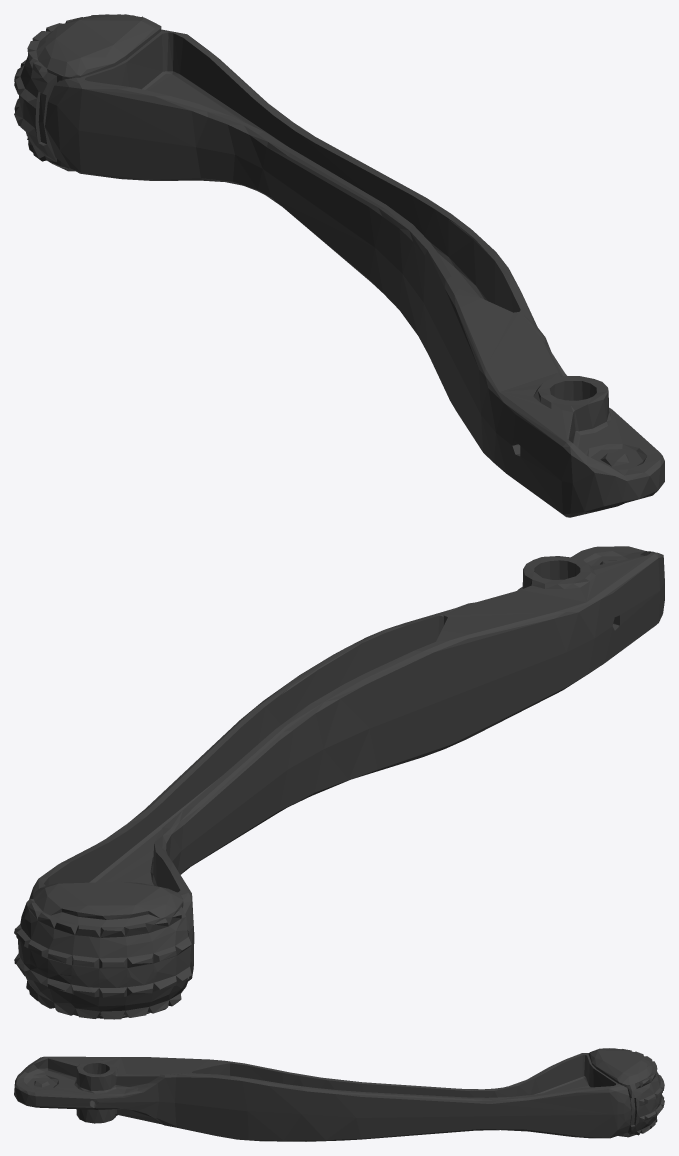
File: front_left_lower_leg_compressed.dae
3 renders of one model, top to bottom at view 1: azimuth 30°, elevation 25°; view 2: azimuth 150°, elevation 25°; view 3: azimuth 270°, elevation 25°, orthographic. The views are drawn at different scales.
Visible parts, largest first — view 1: node; view 2: node; view 3: node.
Boxes of the visible parts, x1=… form: node: x1=14, y1=14, x2=664, y2=517; node: x1=14, y1=546, x2=664, y2=1019; node: x1=14, y1=1048, x2=664, y2=1141.
Bounding box in the file's own units: 0.0744 × 0.046 × 0.4251.
1 material, 1 textured.
